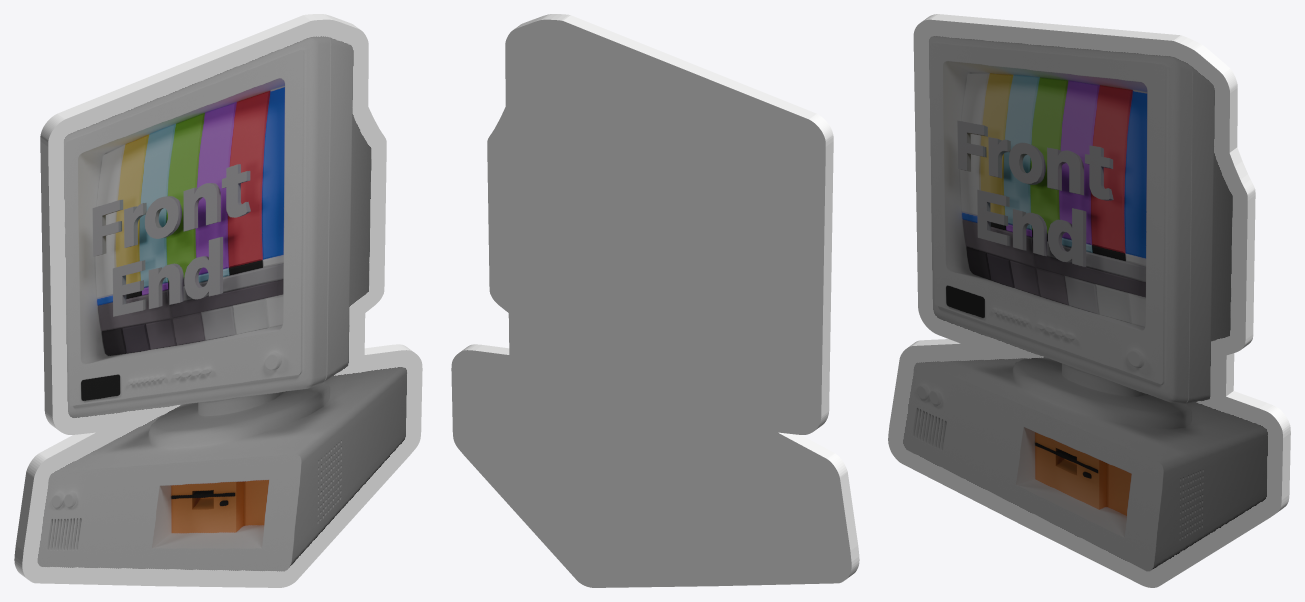
File: ComputerFrontEnd.gltf
3 renders of one model, left to right at view 1: azimuth 30°, elevation 25°; view 2: azimuth 150°, elevation 25°; view 3: azimuth 330°, elevation 25°, orthographic.
Parts seen in each view (by area): view 1: ComputerFrontEnd; view 2: ComputerFrontEnd; view 3: ComputerFrontEnd.
Boxes of the visible parts, x1,y1,x2,y2 form: ComputerFrontEnd: (14,14,422,587); ComputerFrontEnd: (451,14,859,587); ComputerFrontEnd: (888,14,1290,587).
Size of the model in its own units: 2.93 by 3.92 by 0.1.
Materials: 2 (1 with a texture image).
